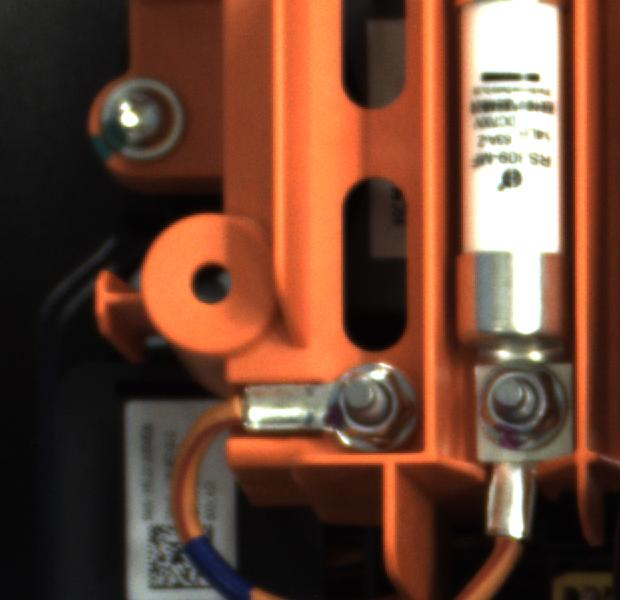screw_m: (83, 70, 194, 173)
screw_s: (329, 358, 428, 438), (483, 358, 570, 449)
